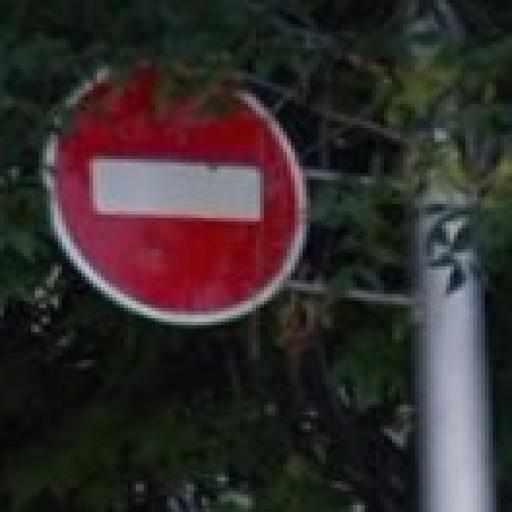traffic_sign: (44, 60, 308, 326)
